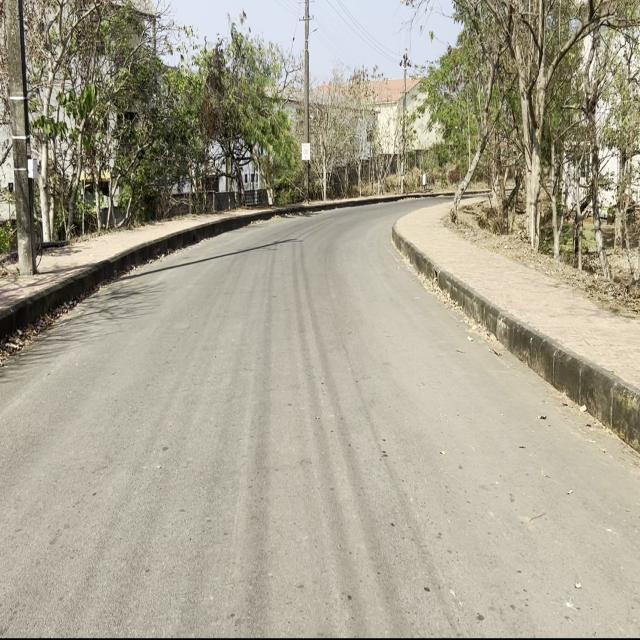Road: (4, 203, 639, 632)
